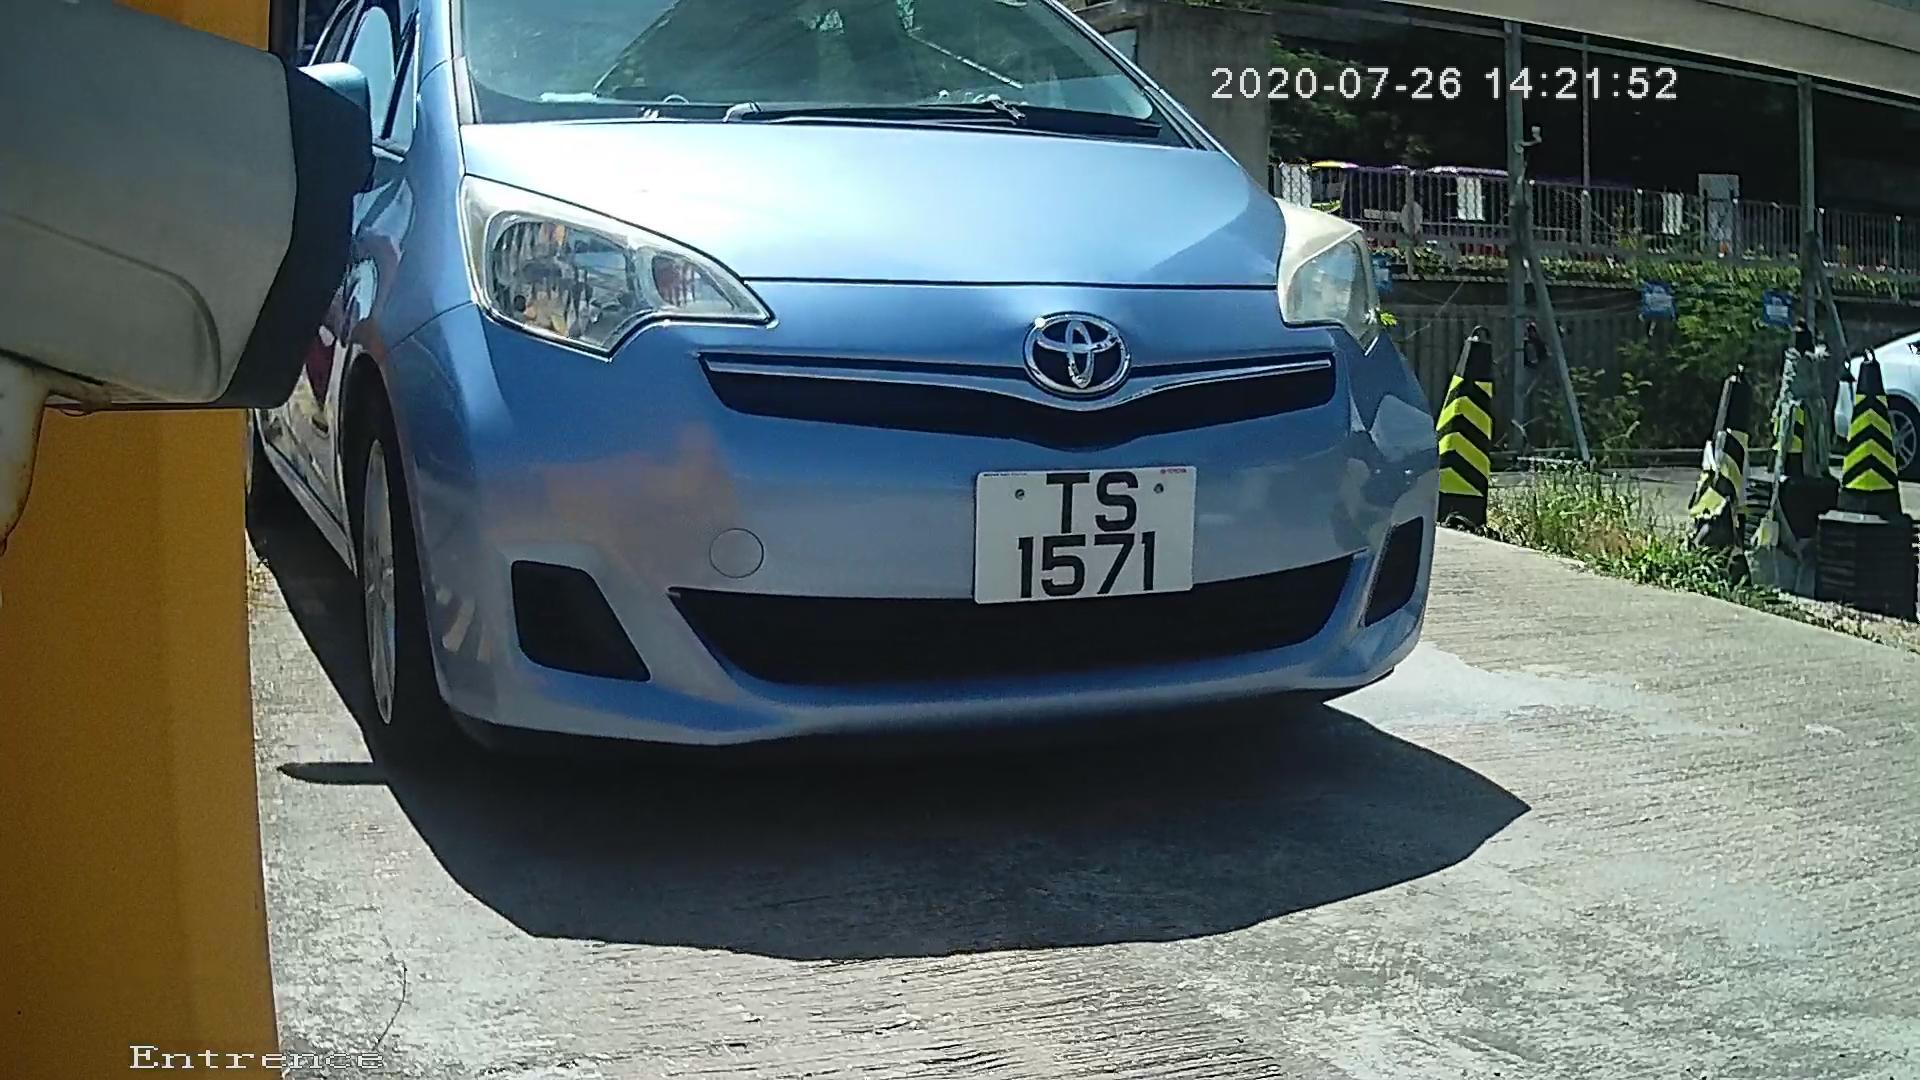privatecar: (241, 29, 1518, 858)
